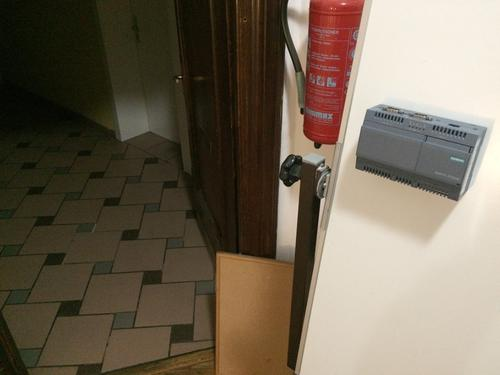iot2000: (353, 103, 488, 203)
